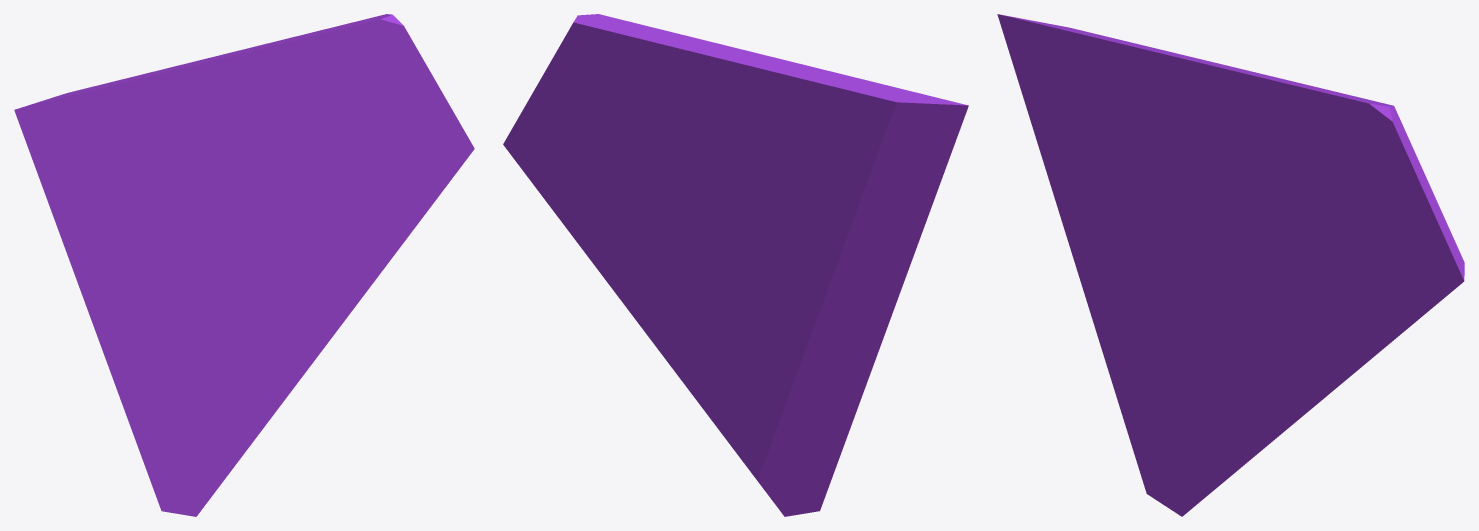
File: Glass_83_2_14_chunks.fbx
3 renders of one model, left to right at view 1: azimuth 30°, elevation 25°; view 2: azimuth 150°, elevation 25°; view 3: azimuth 330°, elevation 25°, orthographic.
Visible parts, largest first — view 1: Glass_83_2_14_1, Glass_83_2_14_2, Glass_83_2_14_5, Glass_83_2_14_7, Glass_83_2_14_6, Glass_83_2_14_8, Glass_83_2_14_4, Glass_83_2_14_3, Glass_83_2_14_9; view 2: Glass_83_2_14_2, Glass_83_2_14_1, Glass_83_2_14_5, Glass_83_2_14_3, Glass_83_2_14_8, Glass_83_2_14_7, Glass_83_2_14_6, Glass_83_2_14_9, Glass_83_2_14_0; view 3: Glass_83_2_14_1, Glass_83_2_14_2, Glass_83_2_14_5, Glass_83_2_14_7, Glass_83_2_14_6, Glass_83_2_14_8, Glass_83_2_14_4, Glass_83_2_14_3, Glass_83_2_14_9.
Boxes of the visible parts, x1,y1,x2,y2 form: Glass_83_2_14_1: (126, 215, 417, 516); Glass_83_2_14_2: (230, 14, 474, 223); Glass_83_2_14_5: (44, 53, 257, 179); Glass_83_2_14_7: (118, 185, 199, 413); Glass_83_2_14_6: (14, 109, 138, 303); Glass_83_2_14_8: (15, 100, 196, 219); Glass_83_2_14_4: (196, 134, 279, 249); Glass_83_2_14_3: (182, 228, 252, 341); Glass_83_2_14_9: (85, 258, 126, 393); Glass_83_2_14_2: (503, 14, 744, 229); Glass_83_2_14_1: (567, 225, 855, 516); Glass_83_2_14_5: (709, 50, 933, 187); Glass_83_2_14_3: (693, 167, 804, 369); Glass_83_2_14_8: (777, 97, 967, 225); Glass_83_2_14_7: (778, 197, 863, 412); Glass_83_2_14_6: (857, 105, 968, 300); Glass_83_2_14_9: (826, 219, 896, 392); Glass_83_2_14_0: (626, 205, 709, 250); Glass_83_2_14_1: (1110, 253, 1406, 516); Glass_83_2_14_2: (1221, 67, 1464, 328); Glass_83_2_14_5: (1032, 21, 1243, 175); Glass_83_2_14_7: (1103, 180, 1185, 377); Glass_83_2_14_6: (997, 14, 1123, 245); Glass_83_2_14_8: (999, 14, 1181, 187); Glass_83_2_14_4: (1181, 159, 1266, 274); Glass_83_2_14_3: (1167, 226, 1239, 331); Glass_83_2_14_9: (1069, 220, 1111, 353).
Bounding box in the file's own units: 776 × 729 × 27.2.
